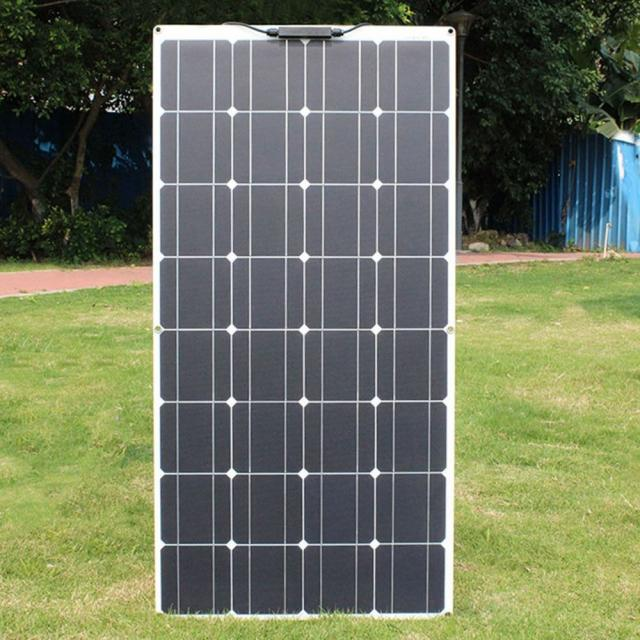no faulty: (165, 46, 453, 616)
